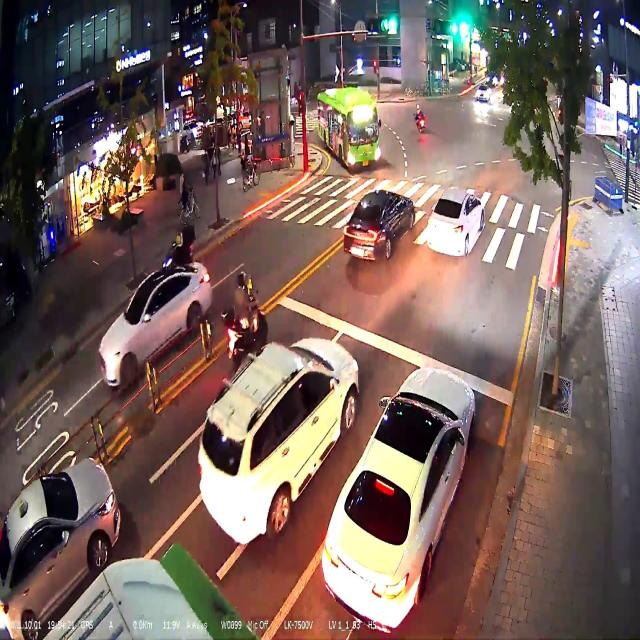Bus: (314, 86, 386, 180)
Car: (322, 355, 488, 632), (198, 319, 358, 540), (36, 506, 269, 640), (0, 415, 130, 640), (91, 247, 216, 382), (328, 184, 417, 271), (423, 178, 493, 272), (471, 80, 490, 106), (181, 119, 203, 139)
Motorcycle: (219, 270, 269, 366), (159, 224, 202, 268), (412, 96, 430, 142)
